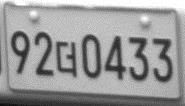0: (80, 34, 102, 77)
2: (33, 30, 55, 77)
3: (151, 37, 173, 82), (128, 36, 149, 80)
4: (103, 35, 127, 80)
9: (10, 30, 31, 74)
더: (55, 40, 78, 78)
